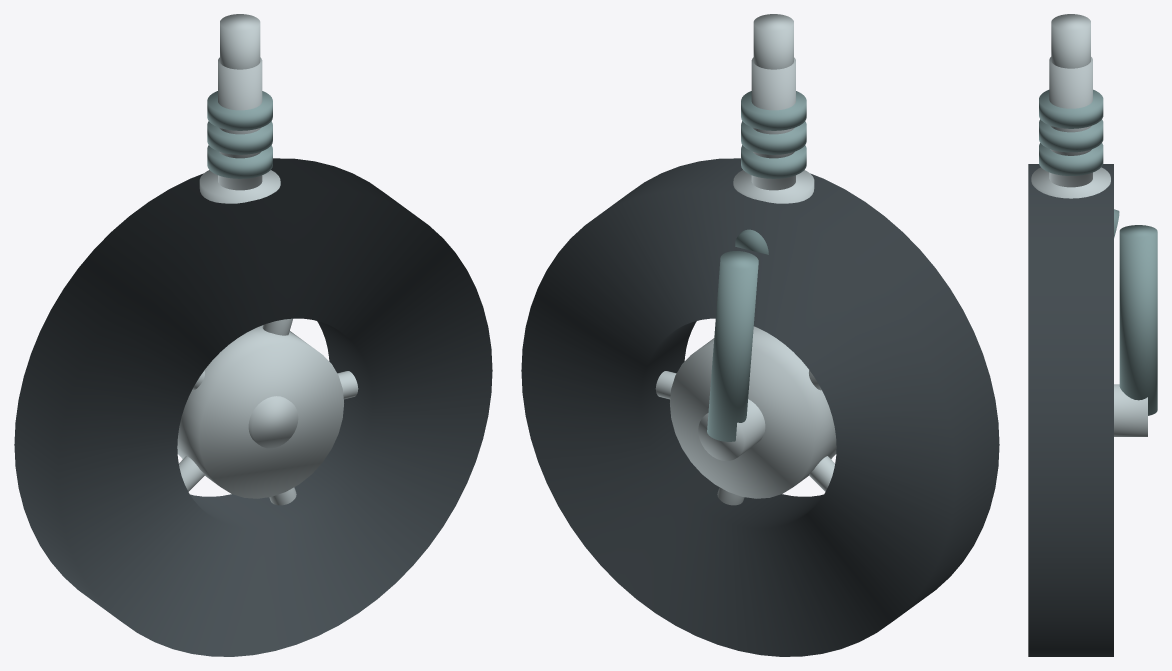
Rendered from wheel-front-left-l.glb.
3 renders of one model, left to right at view 1: azimuth 30°, elevation 25°; view 2: azimuth 150°, elevation 25°; view 3: azimuth 270°, elevation 25°, orthographic.
Parts seen in each view (by area): view 1: FL_tire.008, FL_sealed_hub.008, vertical_front_guide_-1.008, vertical_front_spigot_-1.008, FL_captive_axle.008, front_light_elastomer_-1_2.008, FL_steering_bearing.008, front_light_elastomer_-1_0.008, front_light_elastomer_-1_1.008; view 2: FL_tire.008, FL_sealed_hub.008, FL_fork.008, vertical_front_guide_-1.008, vertical_front_spigot_-1.008, FL_captive_axle.008, front_light_elastomer_-1_2.008, FL_steering_bearing.008, front_light_elastomer_-1_0.008, front_light_elastomer_-1_1.008; view 3: FL_tire.008, FL_fork.008, vertical_front_guide_-1.008, vertical_front_spigot_-1.008, front_light_elastomer_-1_2.008, front_light_elastomer_-1_1.008, front_light_elastomer_-1_0.008, FL_captive_axle.008, FL_steering_bearing.008.
Part boxes in pixels (x1,y1,x2,y2): FL_tire.008: (14, 158, 492, 656); FL_sealed_hub.008: (177, 325, 343, 498); vertical_front_guide_-1.008: (218, 57, 262, 190); vertical_front_spigot_-1.008: (220, 14, 260, 69); FL_captive_axle.008: (248, 396, 298, 448); front_light_elastomer_-1_2.008: (207, 91, 272, 130); FL_steering_bearing.008: (199, 170, 280, 203); front_light_elastomer_-1_0.008: (207, 145, 272, 178); front_light_elastomer_-1_1.008: (207, 121, 272, 154); FL_tire.008: (521, 158, 999, 656); FL_sealed_hub.008: (670, 326, 836, 498); FL_fork.008: (707, 251, 758, 441); vertical_front_guide_-1.008: (751, 57, 795, 190); vertical_front_spigot_-1.008: (753, 14, 793, 69); FL_captive_axle.008: (698, 399, 765, 460); front_light_elastomer_-1_2.008: (741, 91, 806, 130); FL_steering_bearing.008: (733, 170, 814, 203); front_light_elastomer_-1_0.008: (741, 145, 806, 178); front_light_elastomer_-1_1.008: (741, 121, 806, 154); FL_tire.008: (1028, 164, 1113, 656); FL_fork.008: (1119, 225, 1157, 415); vertical_front_guide_-1.008: (1049, 57, 1092, 187); vertical_front_spigot_-1.008: (1051, 14, 1090, 68); front_light_elastomer_-1_2.008: (1039, 89, 1103, 128); front_light_elastomer_-1_1.008: (1039, 119, 1103, 152); front_light_elastomer_-1_0.008: (1039, 143, 1103, 175); FL_captive_axle.008: (1114, 384, 1147, 436); FL_steering_bearing.008: (1031, 167, 1110, 198).
Size of the model in its own units: 0.26 by 0.352 by 0.068.
